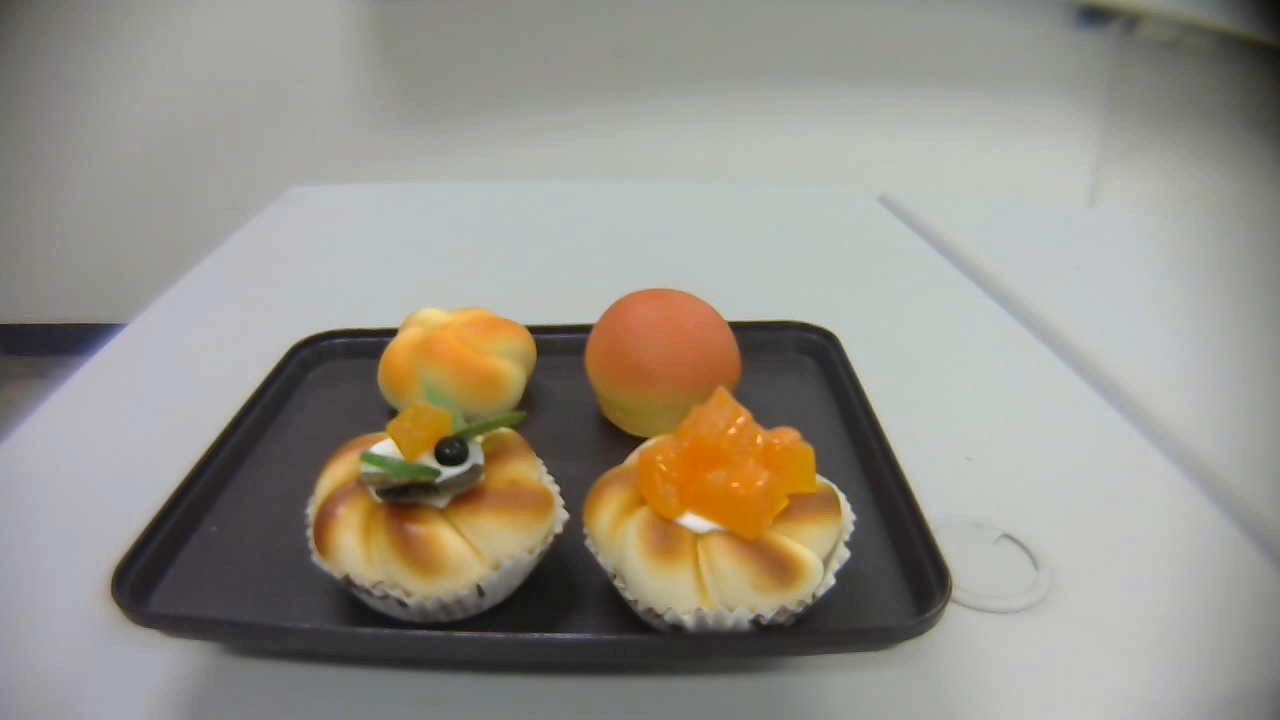bun: (584, 289, 743, 437)
fruit tart: (305, 392, 569, 622)
mango tart: (581, 387, 854, 631)
twist bread: (377, 308, 538, 423)
